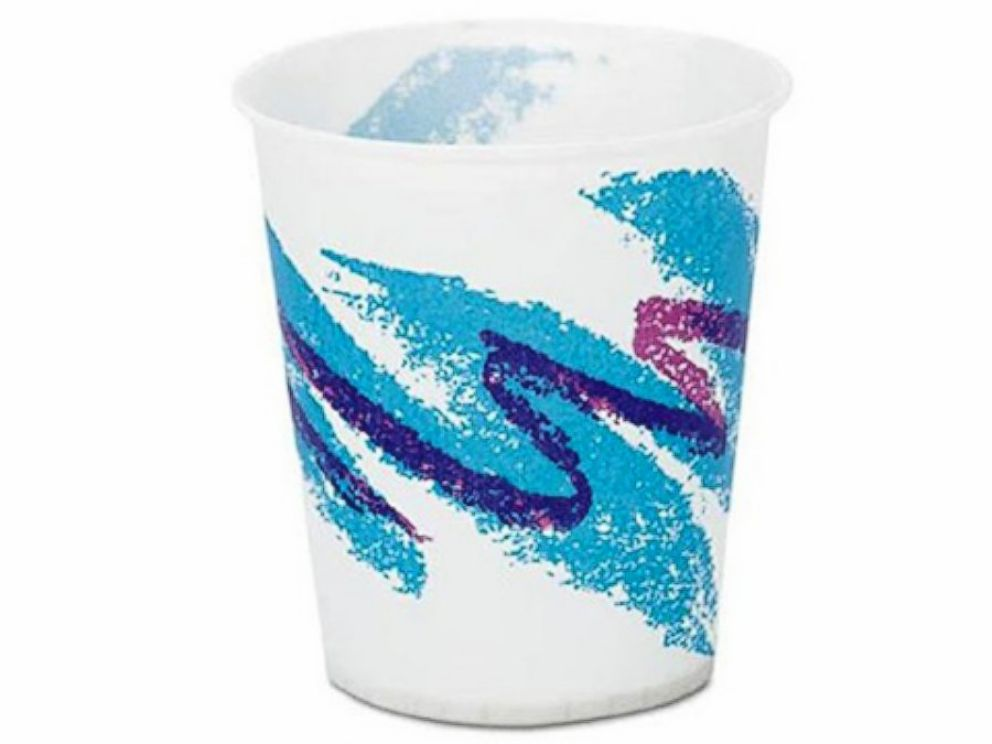cup: (223, 9, 790, 730)
